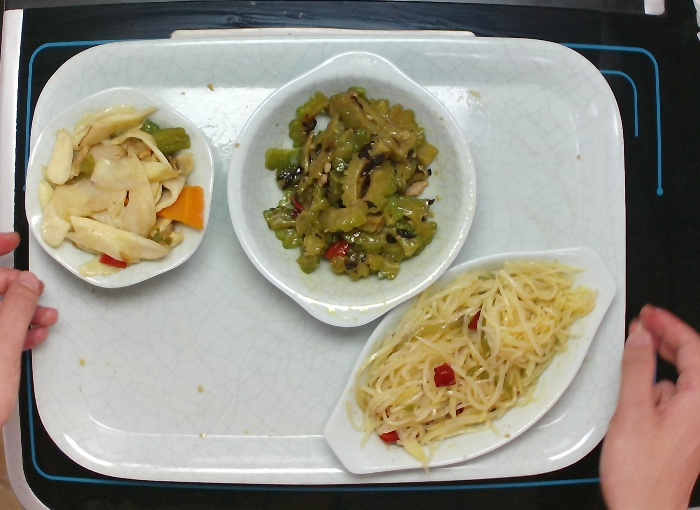JYsf-Shuang_Er_Wan: (230, 54, 476, 332)
JYsf-Yu_Pan: (320, 248, 614, 480)
WCQzf-Hua_Duo_Wan: (28, 90, 212, 295)
